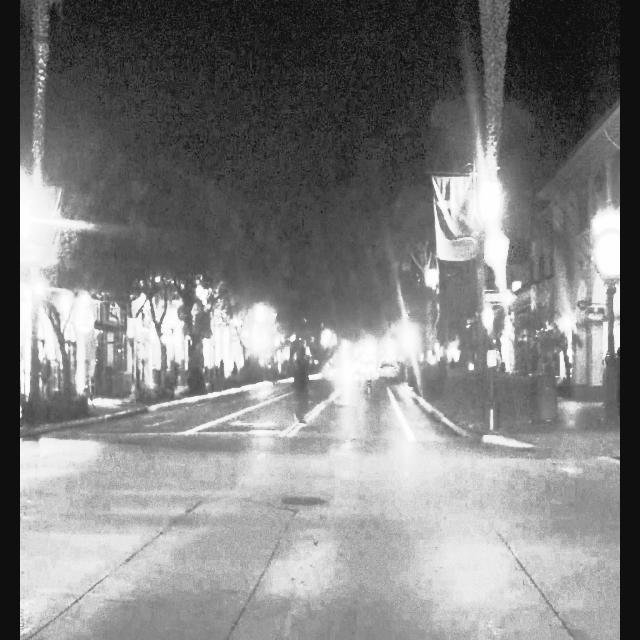Light: (489, 237, 506, 263), (20, 201, 30, 240), (484, 308, 498, 328)
